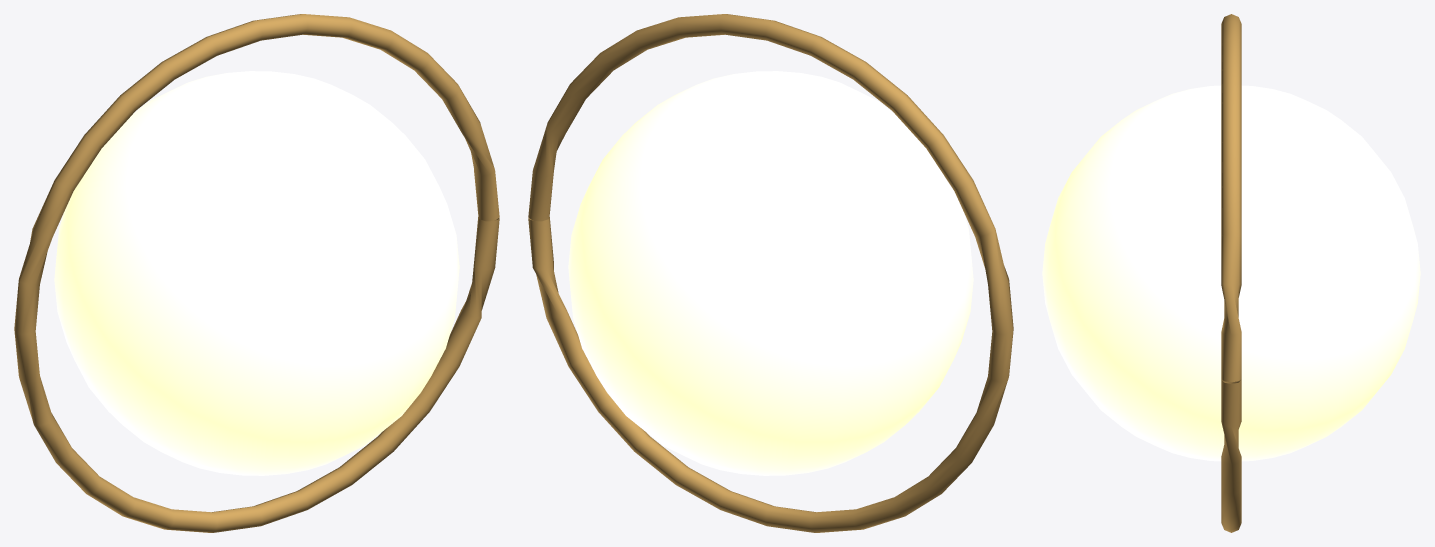
The model's file is pearl.glb.
3 renders of one model, left to right at view 1: azimuth 30°, elevation 25°; view 2: azimuth 150°, elevation 25°; view 3: azimuth 270°, elevation 25°, orthographic. The views are drawn at different scales.
Parts seen in each view (by area): view 1: pearl_fixed_Amber lantern, pearl_fixed_Brushed brass; view 2: pearl_fixed_Amber lantern, pearl_fixed_Brushed brass; view 3: pearl_fixed_Amber lantern, pearl_fixed_Brushed brass.
Boxes of the visible parts, x1,y1,x2,y2 form: pearl_fixed_Amber lantern: (54,71,459,475); pearl_fixed_Brushed brass: (14,14,499,532); pearl_fixed_Amber lantern: (568,71,973,475); pearl_fixed_Brushed brass: (528,14,1013,532); pearl_fixed_Amber lantern: (1042,85,1420,461); pearl_fixed_Brushed brass: (1221,14,1241,532).
Size of the model in its own units: 0.6039 by 0.604 by 0.44.
